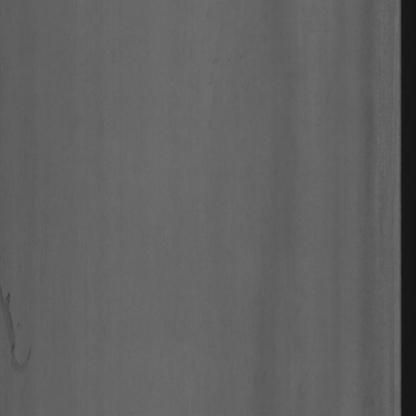water_spot: (0, 273, 32, 370)
